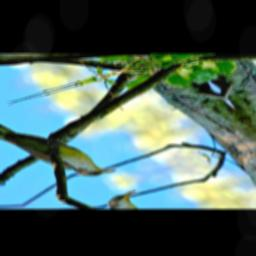Cuckoo: (0, 96, 117, 194)
